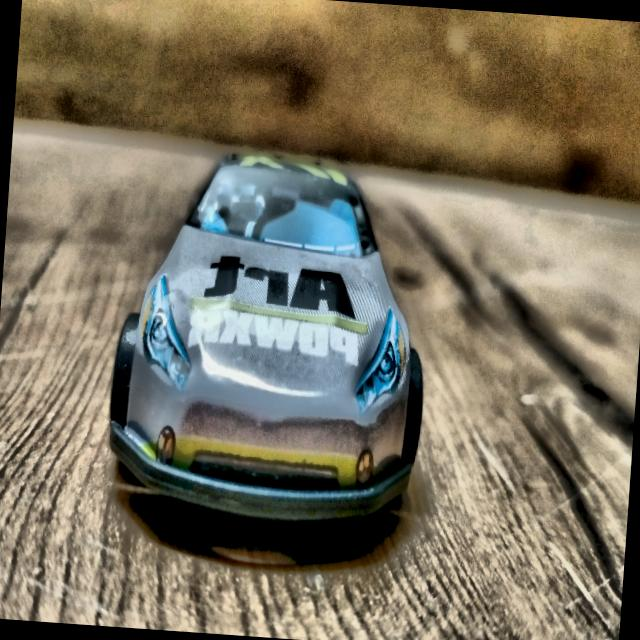Car: (104, 143, 438, 528)
